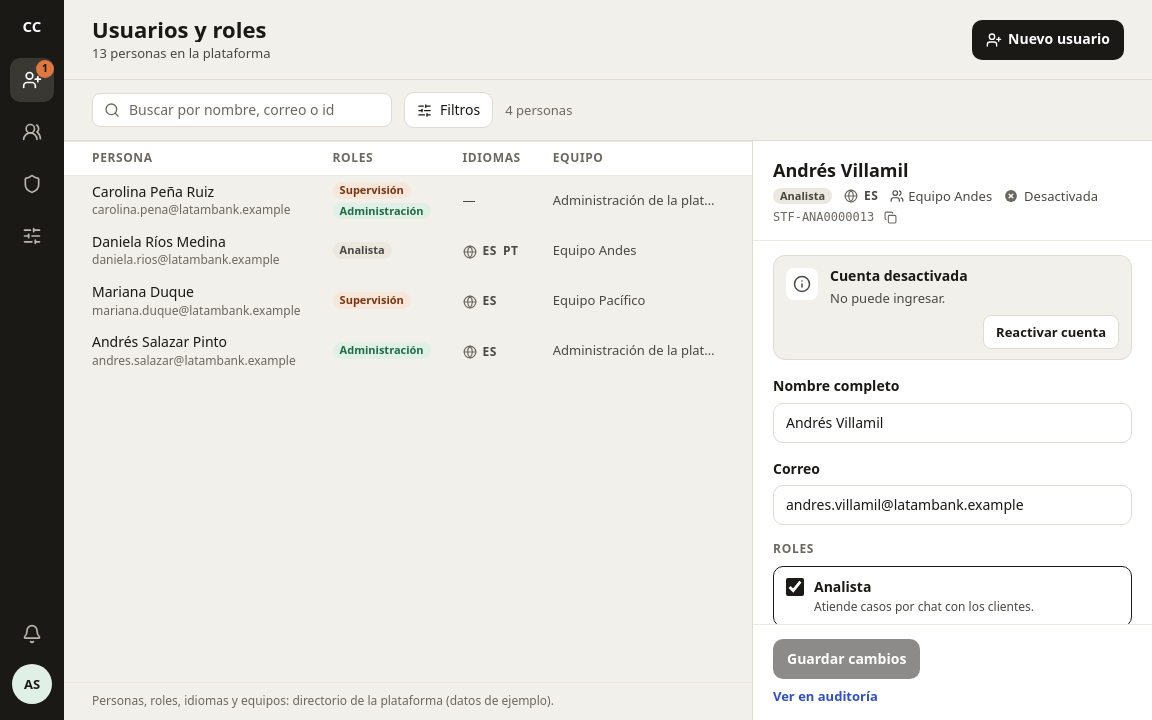
users and roles screen ("Usuarios y roles") › fetches an inactive person outside the list and reactivates her
This screenshot has width=1152, height=720.
Expected: the text "No puede ingresar." is shown, [830, 289, 945, 307]
Expected: the button "Desactivar cuenta" is not shown
Click the button "Reactivar cuenta": (1051, 332) [983, 315, 1119, 349]
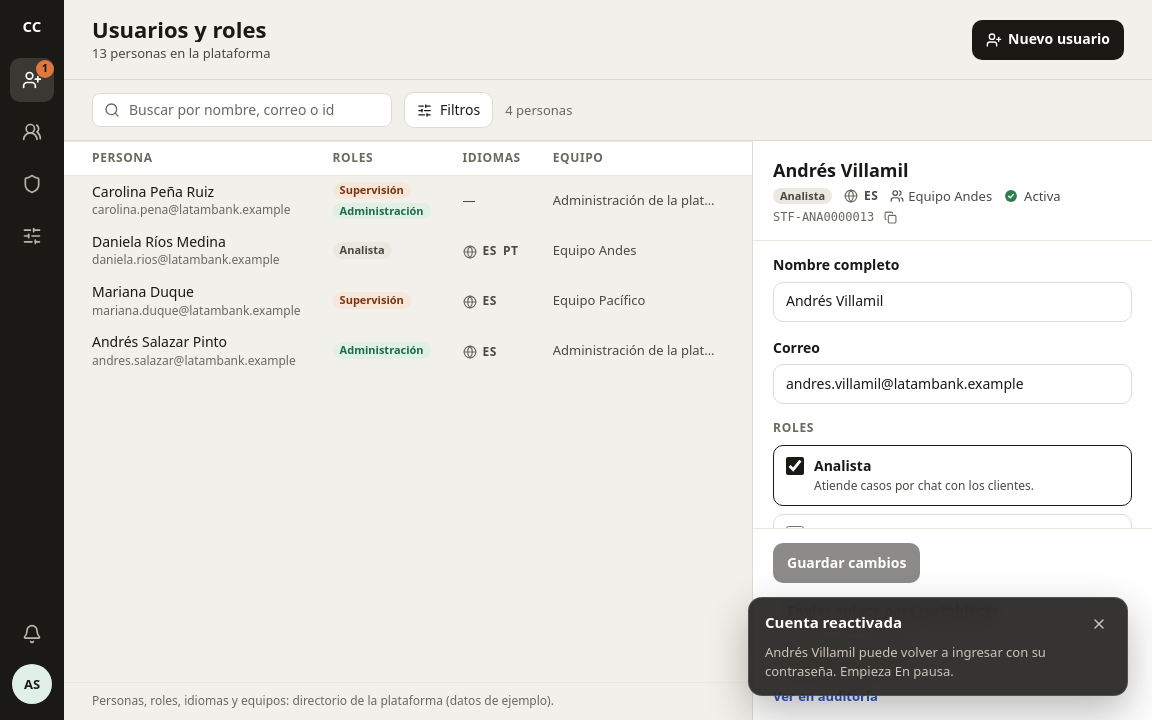
Expected: the text "Cuenta reactivada" is shown, [765, 612, 902, 632]
Expected: the text "Andrés Villamil puede volver a ingresar con su contraseña. Empieza En pausa." is shown, [765, 643, 1071, 681]
